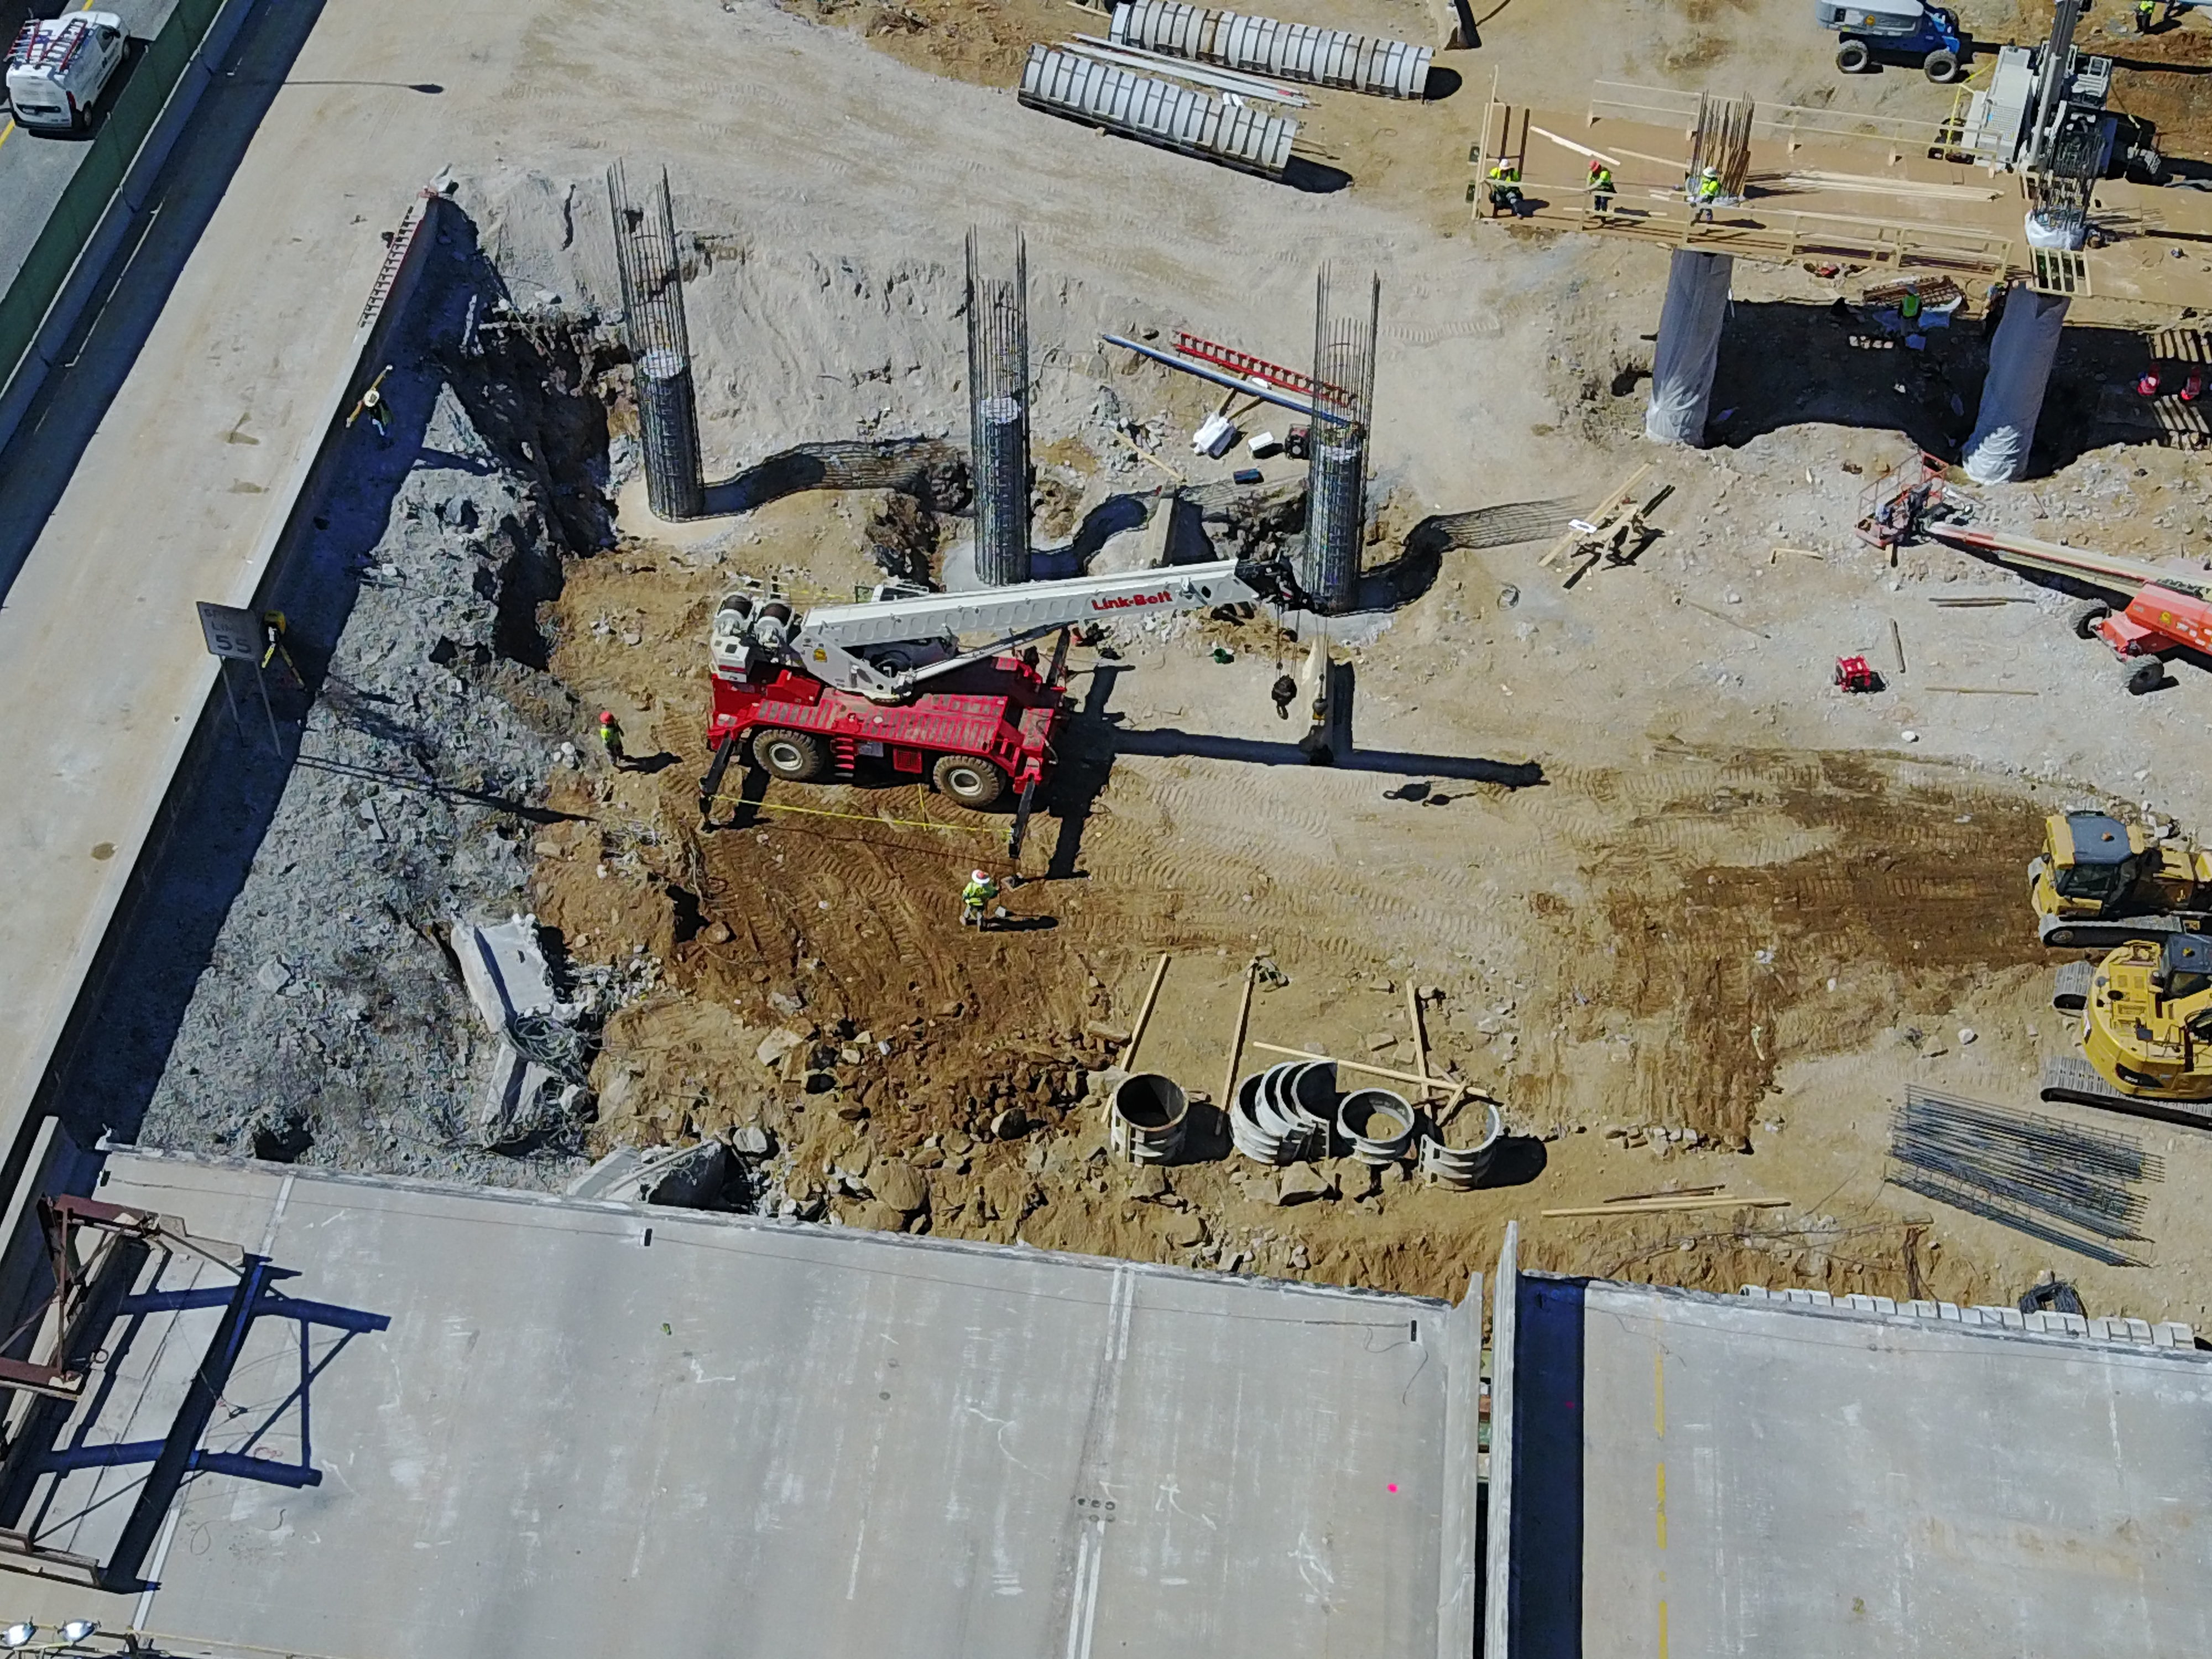crane: (702, 552, 1308, 805), (1853, 446, 2212, 695)
